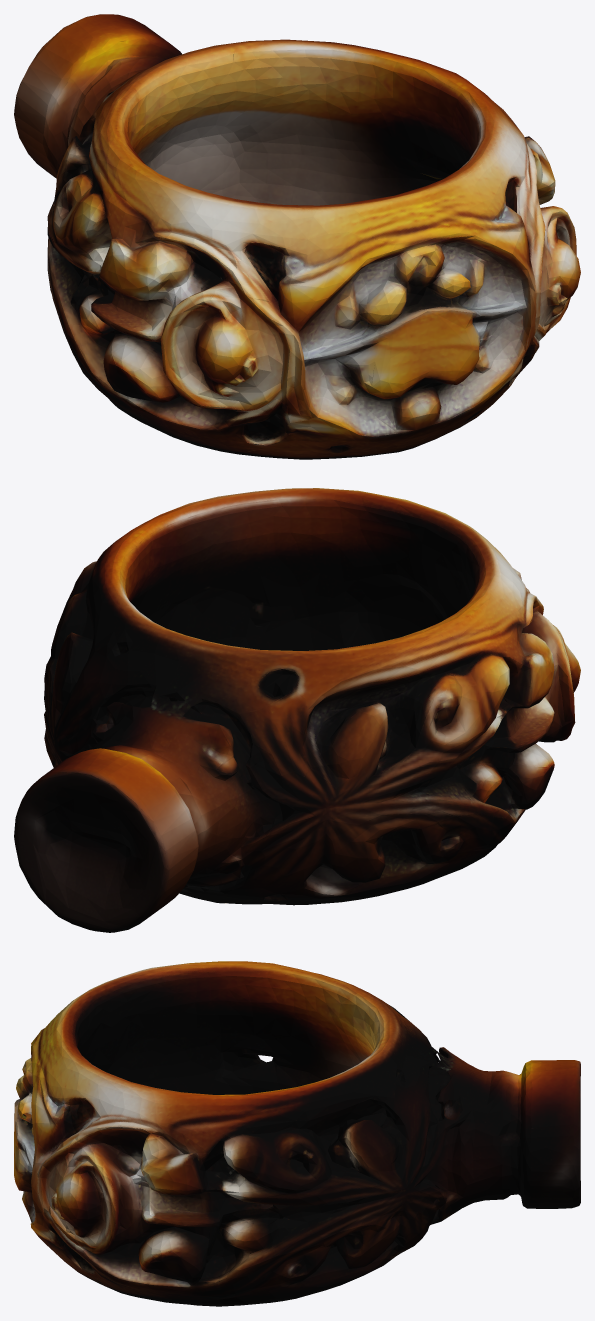
The model's file is wooden-napkin-ring-vintage.jpeg.glb.
3 renders of one model, top to bottom at view 1: azimuth 30°, elevation 25°; view 2: azimuth 150°, elevation 25°; view 3: azimuth 270°, elevation 25°, orthographic. The views are drawn at different scales.
Parts seen in each view (by area): view 1: world; view 2: world; view 3: world.
Part boxes in pixels (bbox=[...]): world: bbox=[14, 14, 580, 459]; world: bbox=[14, 488, 580, 932]; world: bbox=[14, 961, 580, 1306].
Bounding box in the file's own units: 0.7447 × 0.4153 × 0.9997.
1 material, 1 textured.
